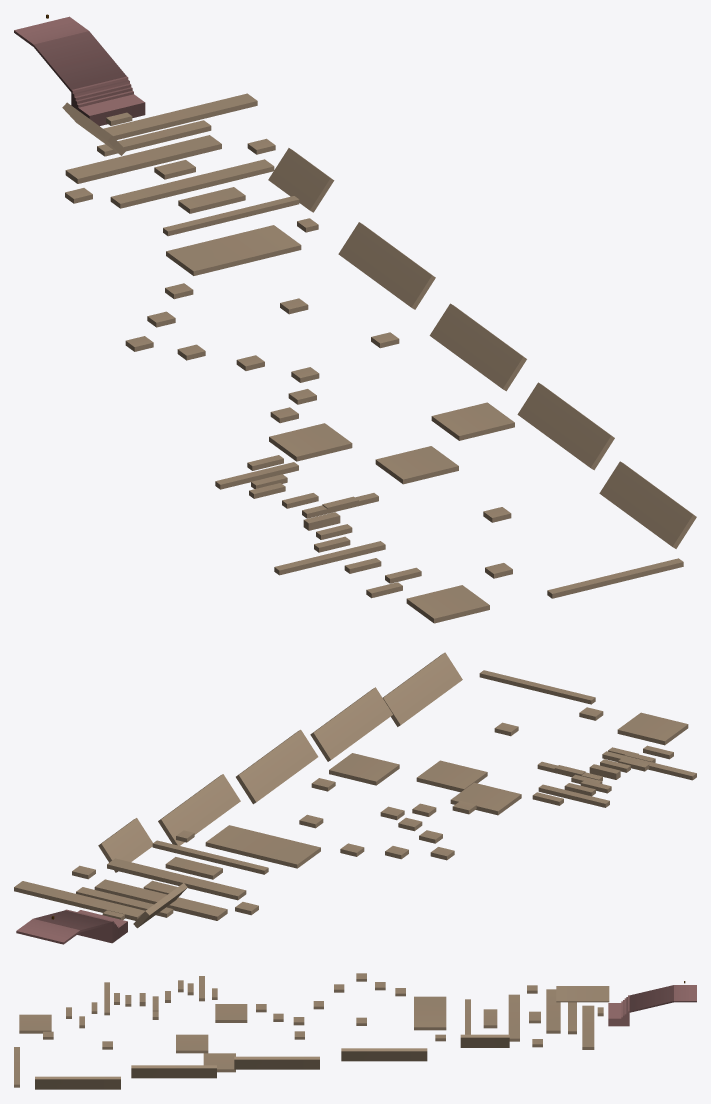
Rendered from playground.glb.
3 views of the same model, one above another, from view 1: azimuth 30°, elevation 25°; view 2: azimuth 150°, elevation 25°; view 3: azimuth 270°, elevation 25° (orthographic). The views are drawn at different scales.
Parts seen in each view (by area): view 1: Cube.004 (×18), Cube.001; view 2: Cube.004 (×20), Cube.001; view 3: Cube.004 (×18), Cube.001.
Part boxes in pixels (x1,y1,x2,y2): Cube.004 (×18): (65, 93, 696, 623); Cube.001: (14, 16, 145, 125); Cube.004 (×20): (14, 652, 696, 928); Cube.001: (16, 909, 127, 944); Cube.004 (×18): (14, 986, 609, 1089); Cube.001: (608, 985, 696, 1026).
Bounding box in the file's own units: 159 × 58.99 × 416.
2 materials, 2 textured.
